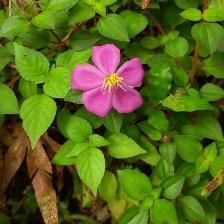malabar melastome: (72, 43, 148, 119)
